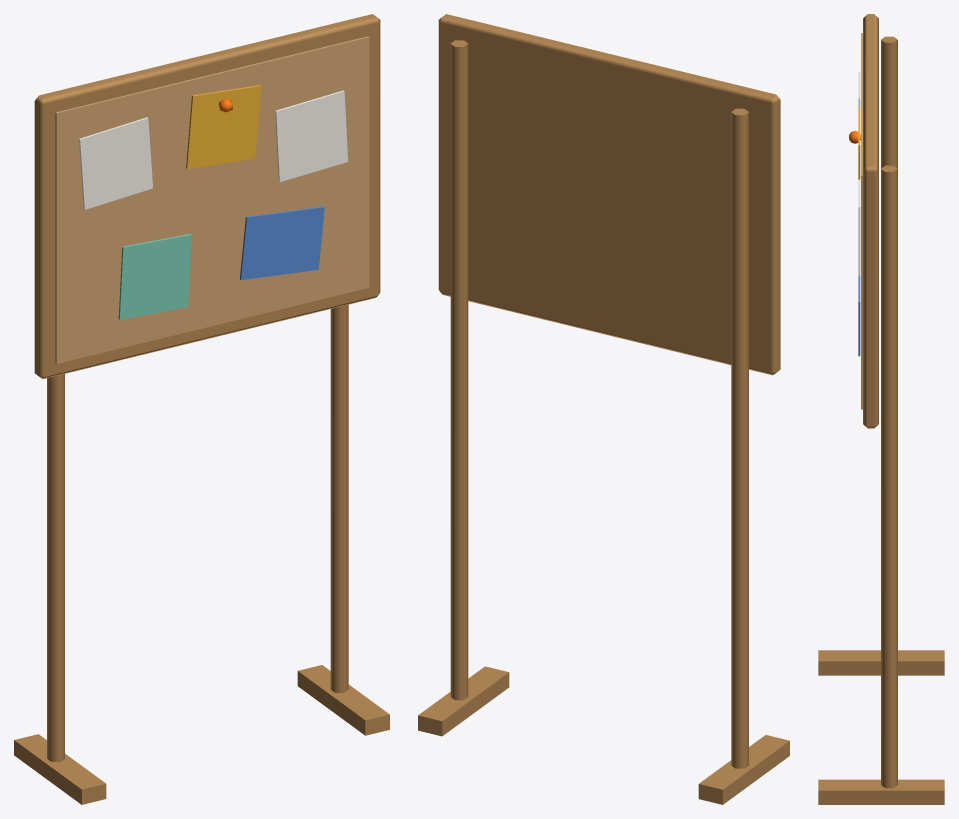
The model's file is station_intake_ausstattung_3_1.glb.
3 renders of one model, left to right at view 1: azimuth 30°, elevation 25°; view 2: azimuth 150°, elevation 25°; view 3: azimuth 270°, elevation 25°, orthographic. The views are drawn at different scales.
Visible parts, largest first — view 1: station_intake_ausstattung_3_1; view 2: station_intake_ausstattung_3_1; view 3: station_intake_ausstattung_3_1.
Boxes of the visible parts, bbox=[...] form: station_intake_ausstattung_3_1: bbox=[14, 14, 389, 804]; station_intake_ausstattung_3_1: bbox=[418, 14, 789, 804]; station_intake_ausstattung_3_1: bbox=[818, 14, 944, 804].
Size of the model in its own units: 0.7 by 1.35 by 0.24.
